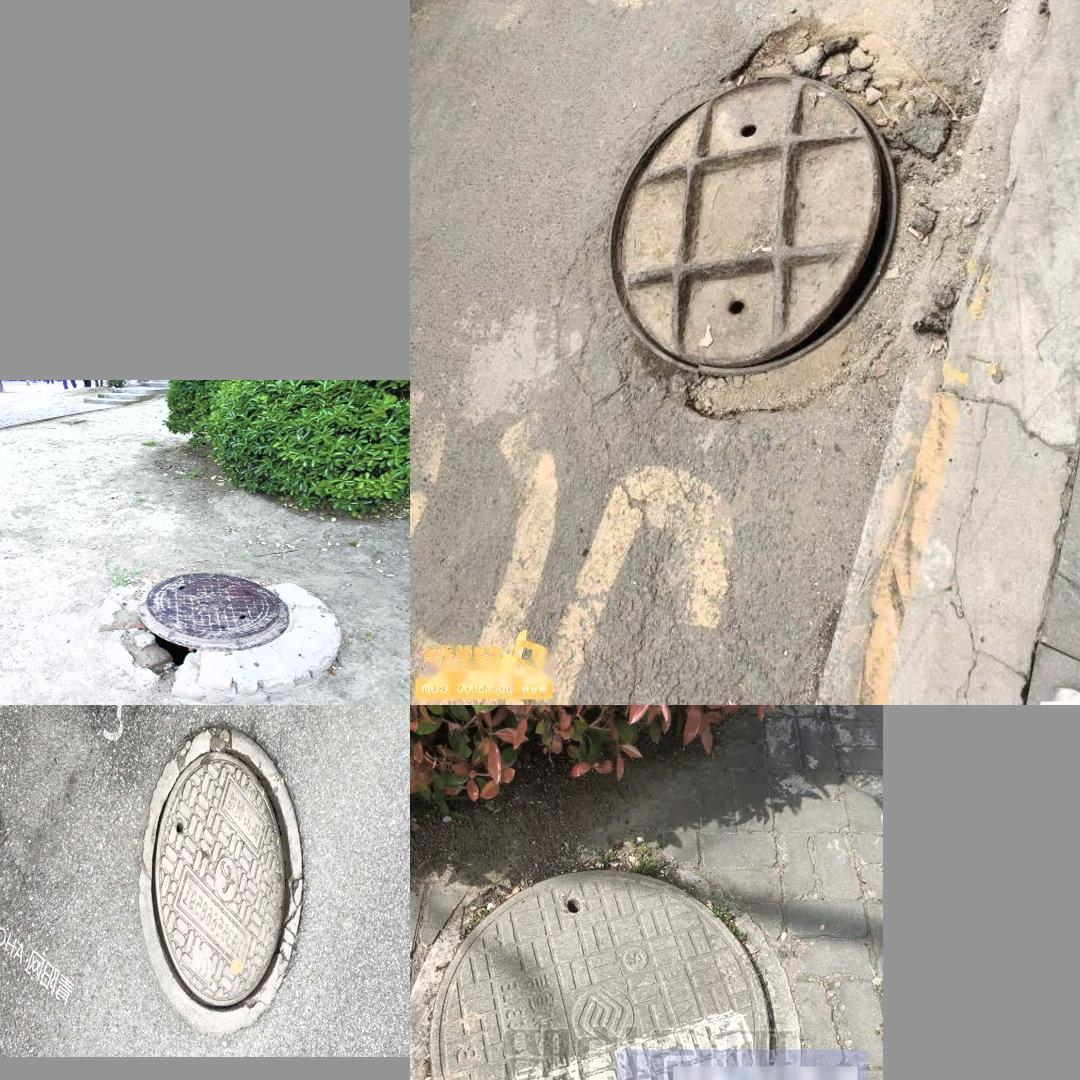circle: (561, 11, 1014, 445), (418, 851, 781, 1080), (128, 724, 325, 1032), (85, 568, 348, 689)
